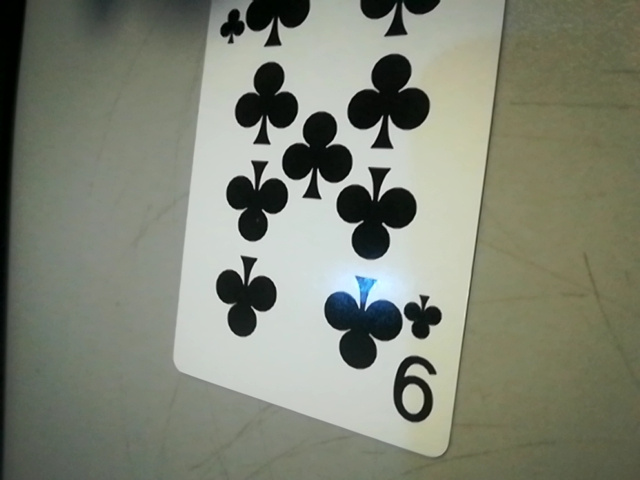mh 9: (390, 291, 453, 435)
